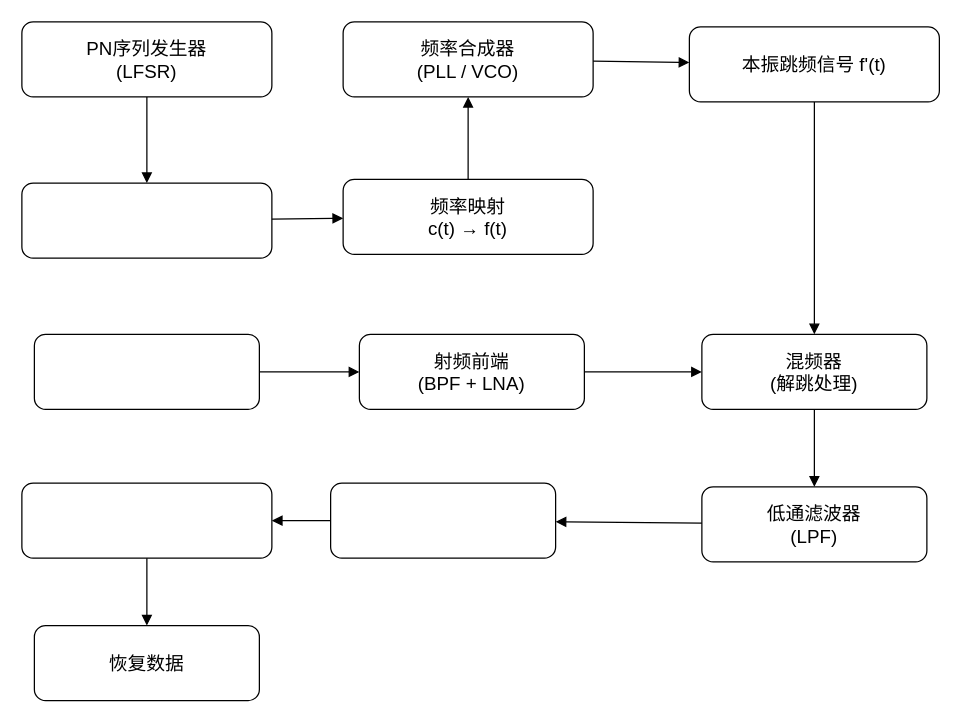
The diagram is 961 pixels wide and 723 high, and some of its shapes have lost their labels. The shapes that lost their labels are listed below. From the top down, each one's centre as x and y in pixels, then its label:
At [146,220]: "同步模块 (捕获 + 跟踪)".
At [146,371]: "接收跳频信号 r(t)".
At [146,520]: "解调器 (BPSK/QPSK/FSK)".
At [442,520]: "基带信号 s(t)".
